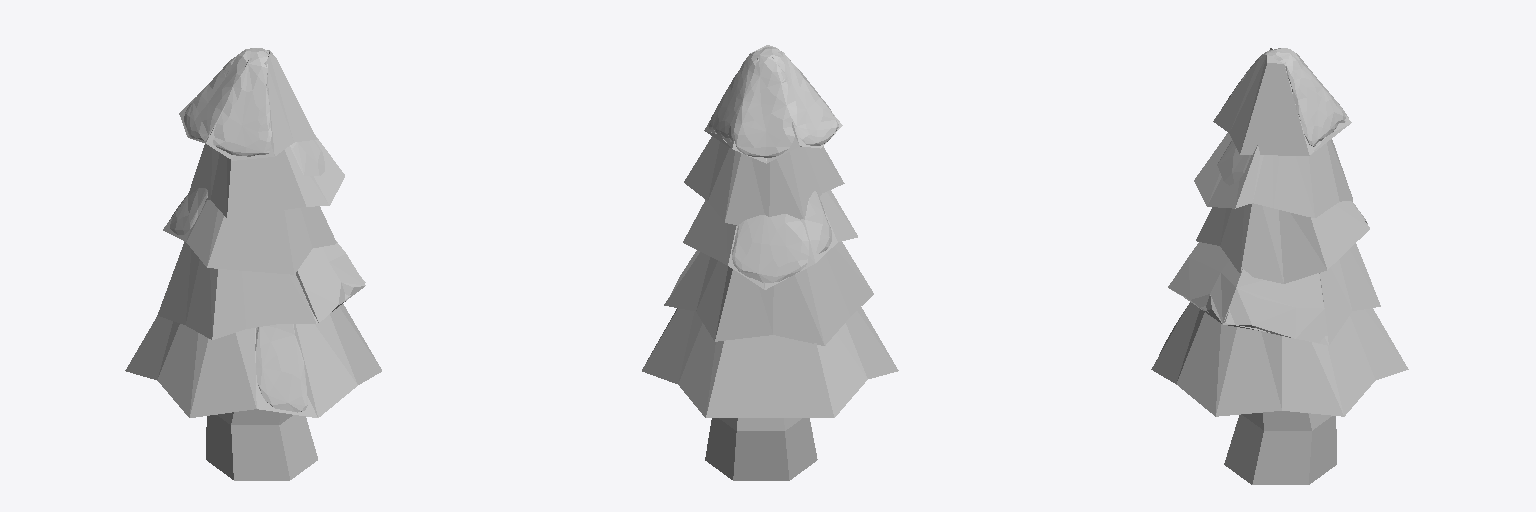
Rendered from SnowTree.obj.
3 views of the same model, side by side, from view 1: azimuth 30°, elevation 25°; view 2: azimuth 150°, elevation 25°; view 3: azimuth 270°, elevation 25° (orthographic).
Visible parts, largest first — view 1: Cylinder.002, Cylinder.001, Cylinder.003, Cylinder.005, Cylinder, SnowBall.004, SnowBall.006, SnowBall.002, Cylinder.004, SnowBall.003, SnowBall.005; view 2: Cylinder.002, Cylinder.001, SnowBall.004, Cylinder.005, Cylinder, SnowBall.003, Cylinder.003, Cylinder.004; view 3: Cylinder.002, Cylinder.003, SnowBall.002, Cylinder.005, Cylinder, Cylinder.004, Cylinder.001, SnowBall.004, SnowBall.005.
Boxes of the visible parts, <box> form: Cylinder.002: <box>125,304,381,417</box>; Cylinder.001: <box>157,242,365,339</box>; Cylinder.003: <box>163,196,336,274</box>; Cylinder.005: <box>188,135,344,217</box>; Cylinder: <box>206,409,317,480</box>; SnowBall.004: <box>184,48,271,156</box>; SnowBall.006: <box>255,324,307,412</box>; SnowBall.002: <box>296,241,365,322</box>; Cylinder.004: <box>179,50,316,160</box>; SnowBall.003: <box>169,188,207,234</box>; SnowBall.005: <box>290,140,324,175</box>; Cylinder.002: <box>642,307,898,417</box>; Cylinder.001: <box>664,241,873,345</box>; SnowBall.004: <box>709,47,838,157</box>; Cylinder.005: <box>684,136,844,225</box>; Cylinder: <box>705,418,817,480</box>; SnowBall.003: <box>732,191,831,282</box>; Cylinder.003: <box>683,190,857,289</box>; Cylinder.004: <box>704,45,842,163</box>; Cylinder.002: <box>1151,302,1408,416</box>; Cylinder.003: <box>1196,201,1369,283</box>; SnowBall.002: <box>1168,242,1327,342</box>; Cylinder.005: <box>1194,133,1352,217</box>; Cylinder: <box>1224,411,1336,484</box>; Cylinder.004: <box>1213,48,1351,155</box>; Cylinder.001: <box>1201,243,1380,345</box>; SnowBall.004: <box>1222,48,1348,146</box>; SnowBall.005: <box>1217,140,1250,185</box>.
Bounding box in the file's own units: 3.23 × 6.39 × 3.63.